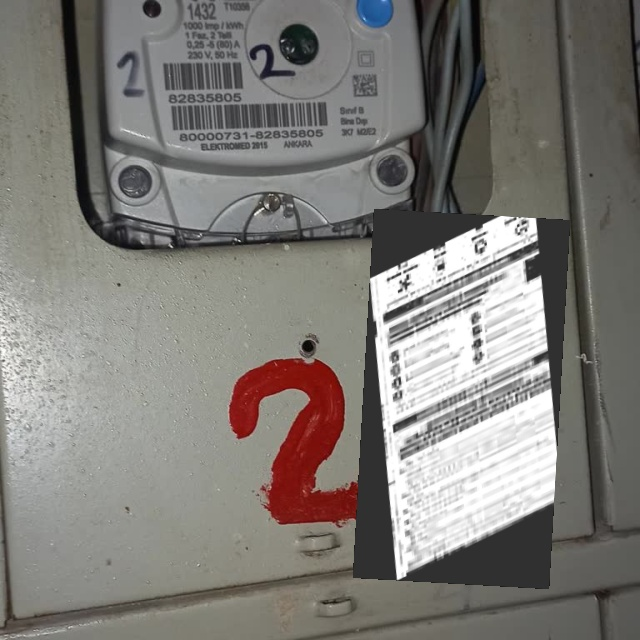electricity-bill: (353, 208, 570, 588)
